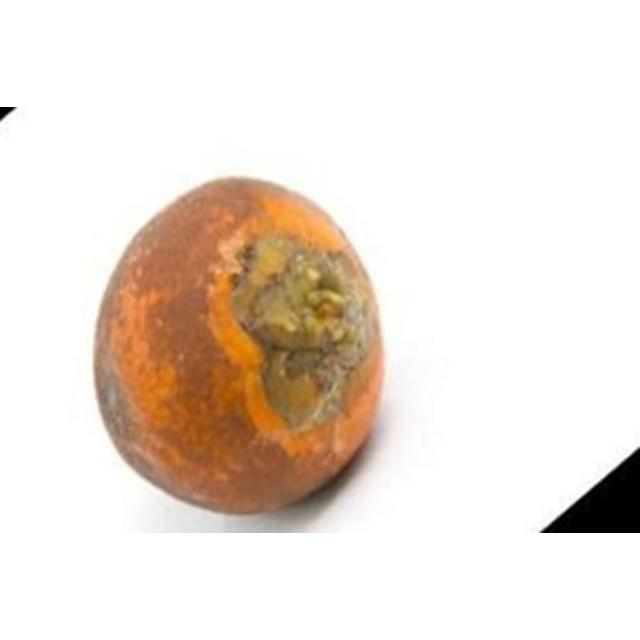good: (91, 180, 387, 517)
